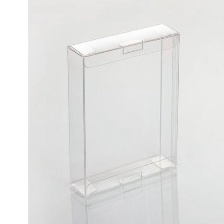plastic_box: (59, 18, 189, 206)
